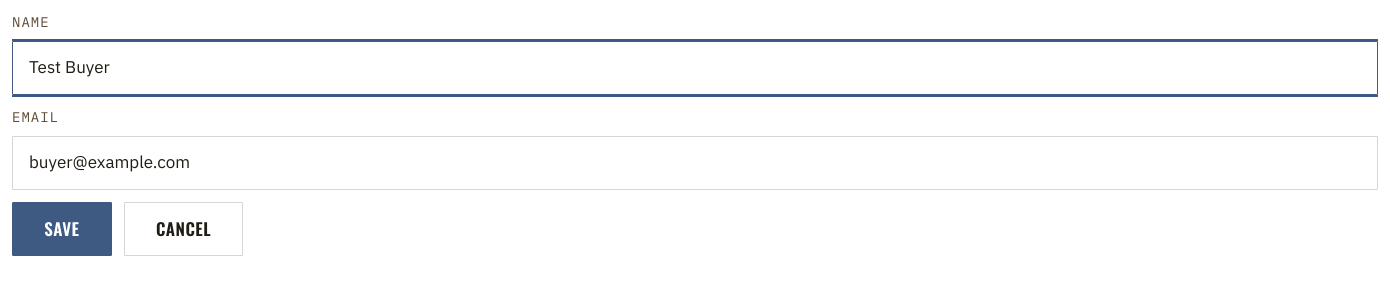
Test: ProfileForm › shows a clear message when the email belongs to another account
The width and height of the screenshot is (1390, 293).
Replace the text in the field labelled "Name" with "New Name" at (695, 68), box [12, 41, 1378, 95]
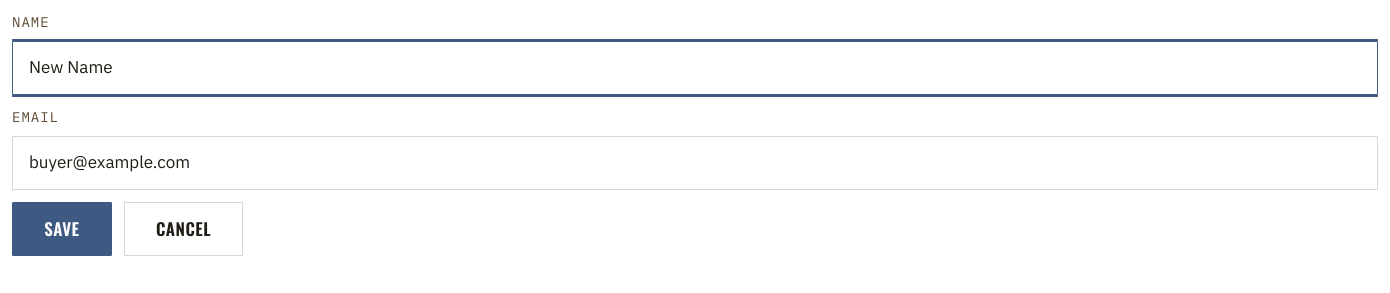
Replace the text in the field labelled "Email" with "taken@example.com" at (695, 163), box [12, 136, 1378, 190]
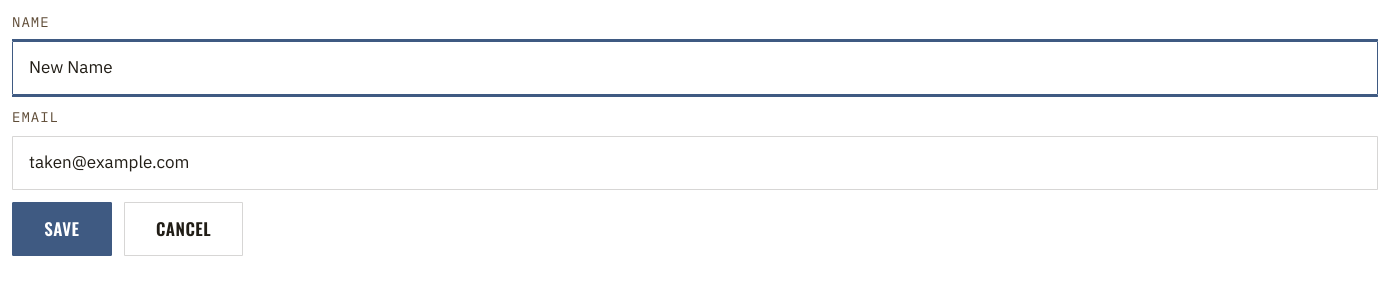
Click the button "Save" at (62, 229), box [12, 202, 112, 256]
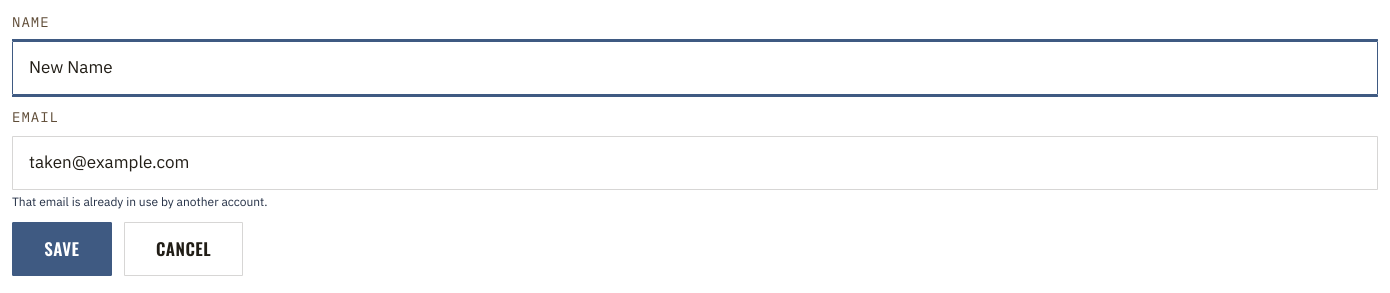
Expected: the text "That email is already in use by another account." is shown, [12, 194, 268, 209]
